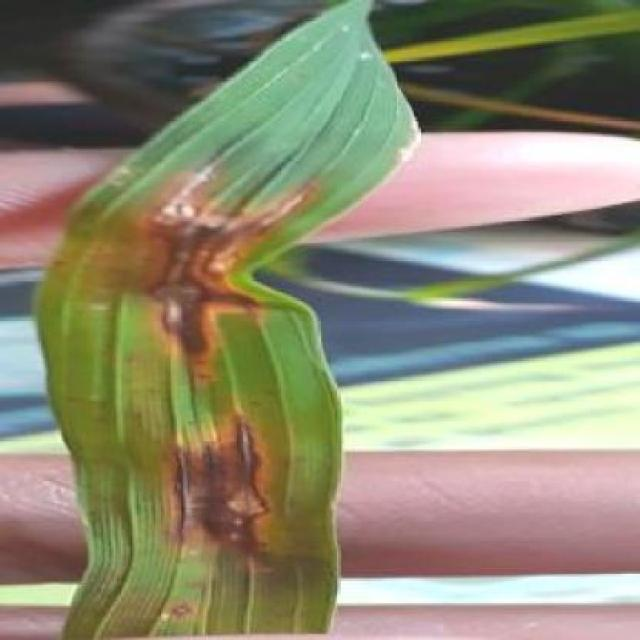Bacterial_Leaf_Blight: (134, 391, 281, 557), (126, 262, 312, 378), (139, 162, 330, 260), (128, 546, 323, 640)
